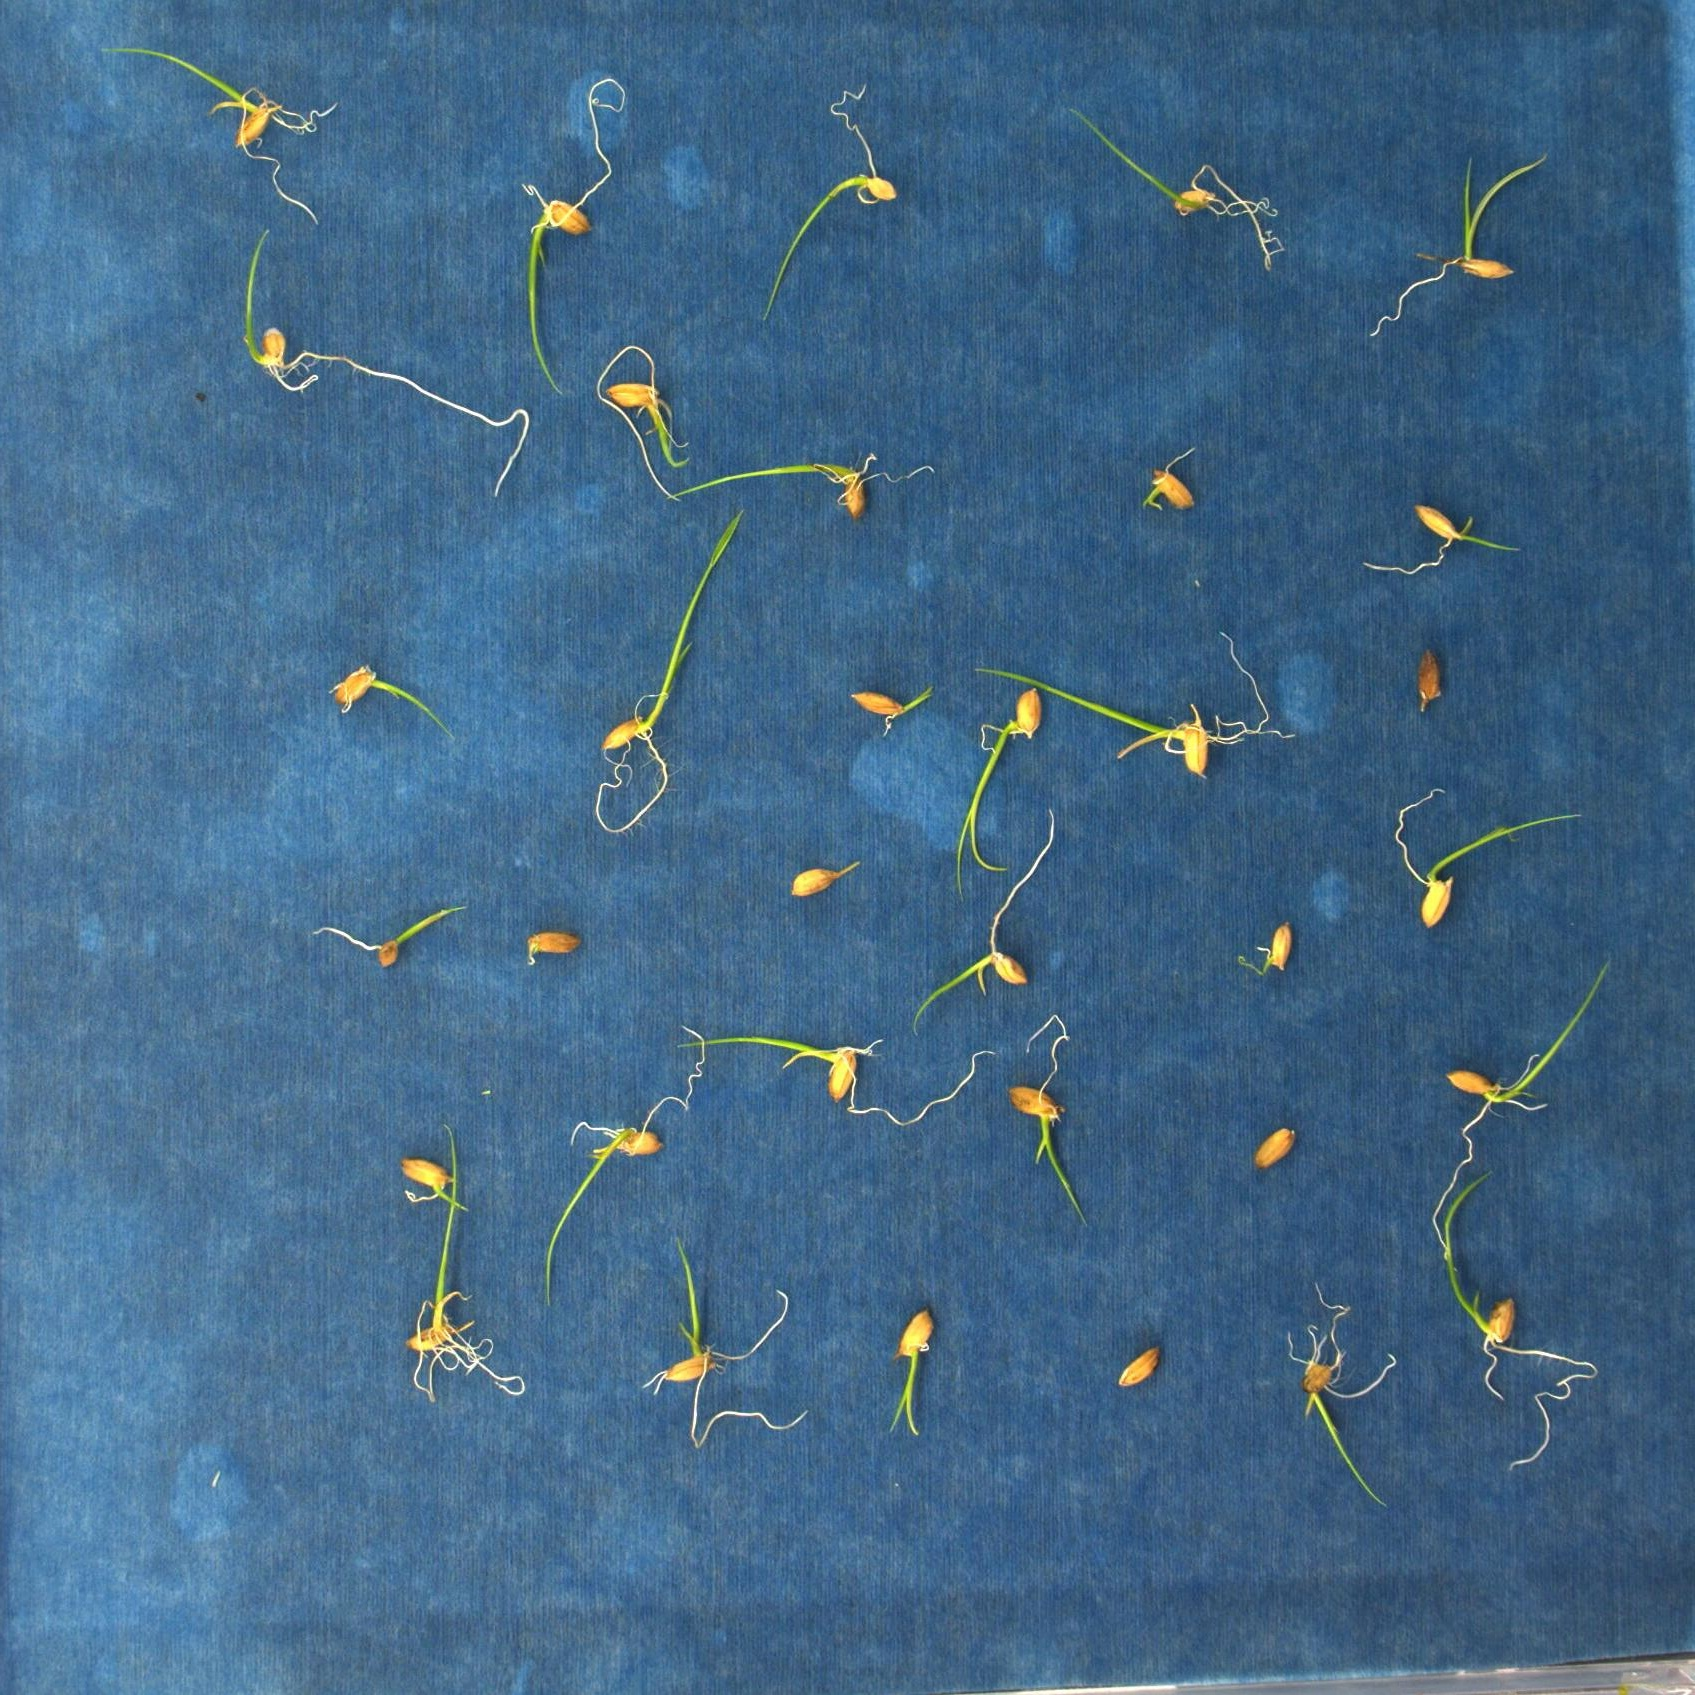not sprout: (1108, 1341, 1159, 1391), (1406, 646, 1445, 709), (520, 931, 588, 965), (1253, 1130, 1301, 1170)
sprout: (241, 227, 532, 497), (1426, 964, 1613, 1260), (972, 626, 1298, 778), (1440, 1170, 1600, 1471), (594, 508, 737, 830), (539, 1021, 702, 1301), (99, 45, 338, 228), (1066, 109, 1284, 279), (400, 1121, 525, 1400), (640, 1239, 806, 1447), (906, 809, 1057, 1037), (525, 71, 626, 397), (1367, 154, 1544, 337), (764, 88, 896, 320), (671, 1038, 997, 1128), (1394, 787, 1586, 928), (1281, 1287, 1388, 1512), (958, 683, 1048, 893), (1007, 1014, 1088, 1231), (674, 456, 934, 518), (601, 341, 686, 504), (1360, 500, 1521, 573), (331, 664, 459, 747), (310, 905, 470, 965), (885, 1305, 931, 1433), (393, 1150, 470, 1220), (840, 678, 933, 733), (1139, 452, 1206, 511), (1234, 924, 1291, 975), (795, 858, 865, 900)
